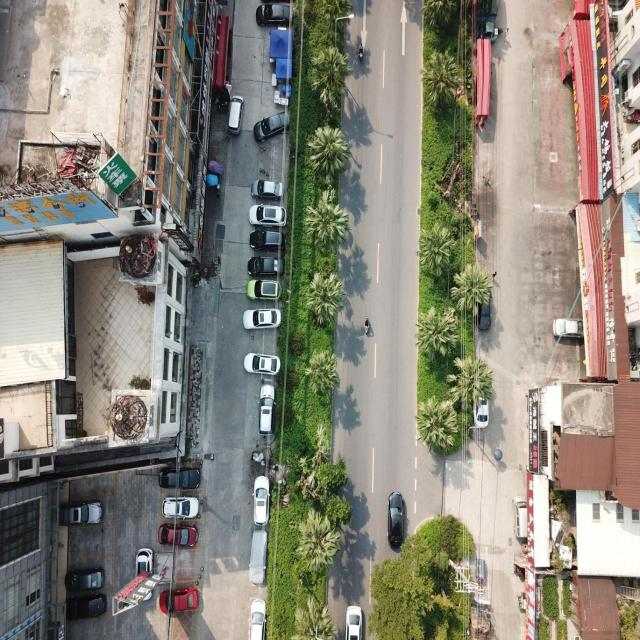p3rson: (489, 270, 496, 282), (503, 27, 509, 41), (225, 130, 230, 142), (215, 190, 221, 200), (495, 455, 499, 468)
